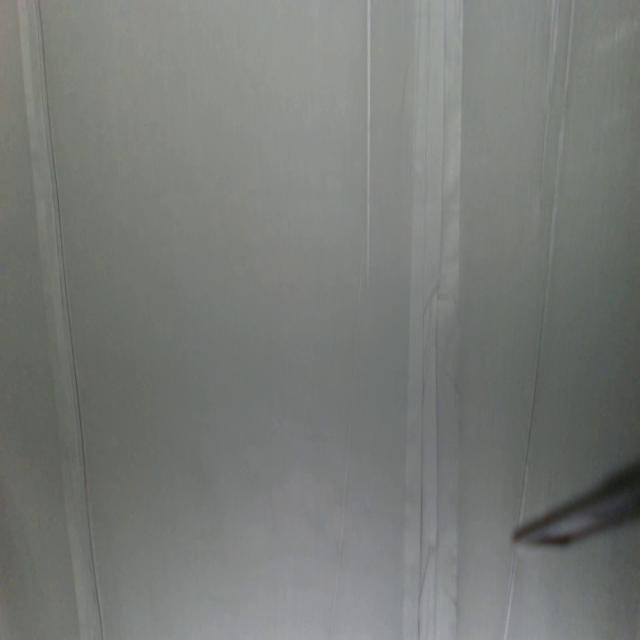crease: (18, 0, 107, 640), (405, 0, 461, 635), (518, 1, 579, 498), (362, 0, 374, 288), (499, 543, 523, 640)
